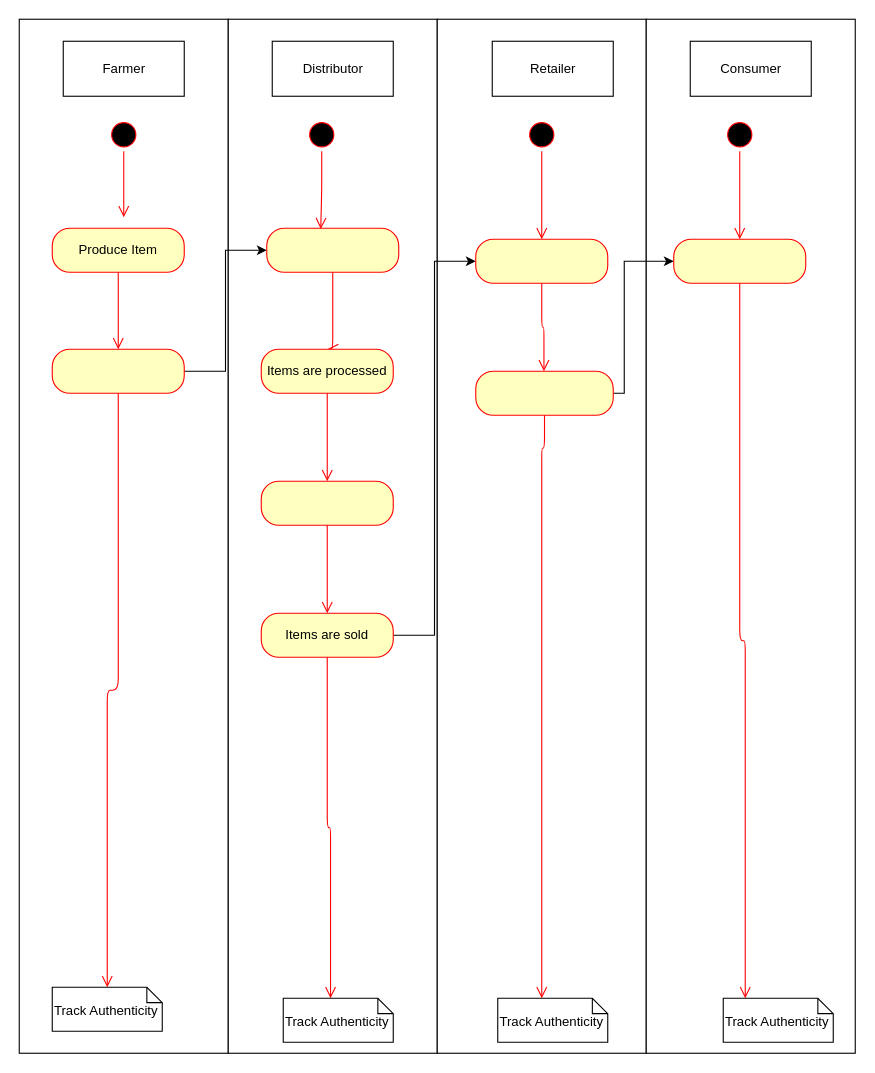
Some shapes in this 875 by 1073 pixel diagram are drawn without their labels. The centre of each missing label's shape, as x and y in pixels:
"Buys item" goes at (x=739, y=260).
"Distributor buys item" goes at (x=332, y=249).
"Items are packaged" goes at (x=326, y=502).
"Retailer buys item" goes at (x=541, y=260).
"Retailer sells item" goes at (x=544, y=392).
"Sell Item" goes at (x=117, y=370).
